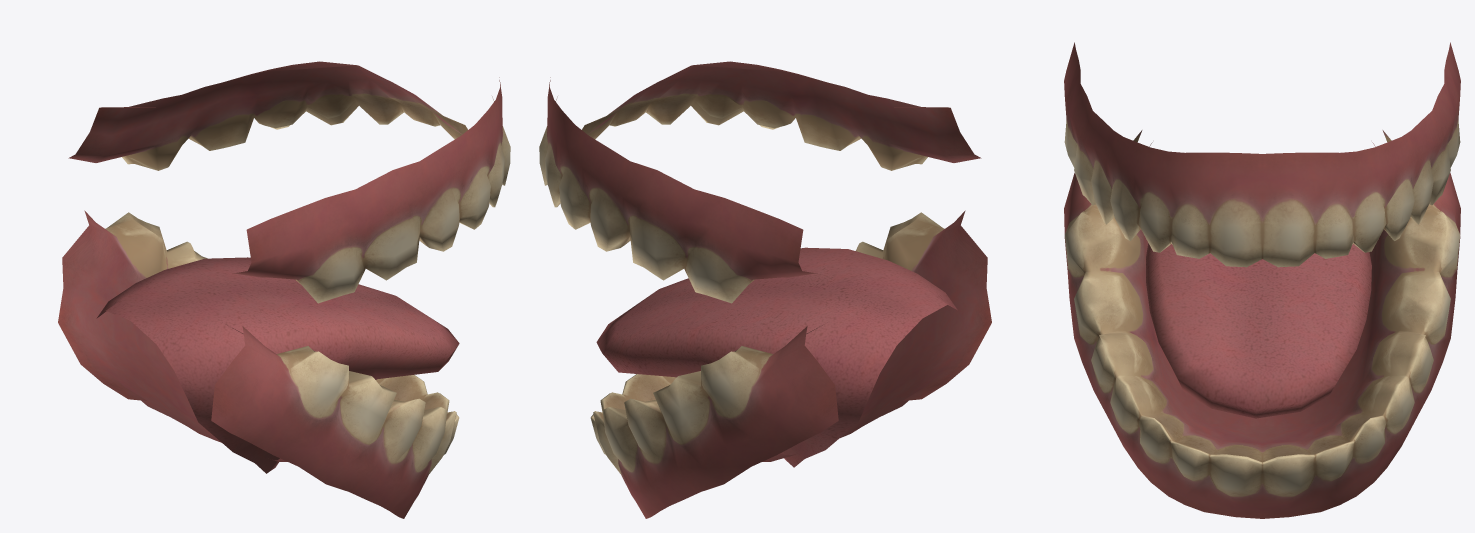
File: mouth.glb
3 views of the same model, side by side, from view 1: azimuth 30°, elevation 25°; view 2: azimuth 150°, elevation 25°; view 3: azimuth 270°, elevation 25° (orthographic). The views are drawn at different scales.
Visible parts, largest first — view 1: Plane.006, Plane.005, Plane.001; view 2: Plane.006, Plane.005, Plane.001; view 3: Plane.005, Plane.006, Plane.001.
Boxes of the visible parts, x1=… form: Plane.006: x1=68, y1=61, x2=510, y2=303; Plane.005: x1=58, y1=210, x2=459, y2=518; Plane.001: x1=96, y1=257, x2=459, y2=473; Plane.006: x1=539, y1=61, x2=981, y2=303; Plane.005: x1=590, y1=210, x2=991, y2=518; Plane.001: x1=596, y1=247, x2=957, y2=467; Plane.005: x1=1064, y1=173, x2=1460, y2=518; Plane.006: x1=1064, y1=42, x2=1460, y2=267; Plane.001: x1=1146, y1=243, x2=1371, y2=418.
Size of the model in its own units: 0.1349 by 0.1476 by 0.1275.
Materials: 1 (1 with a texture image).
